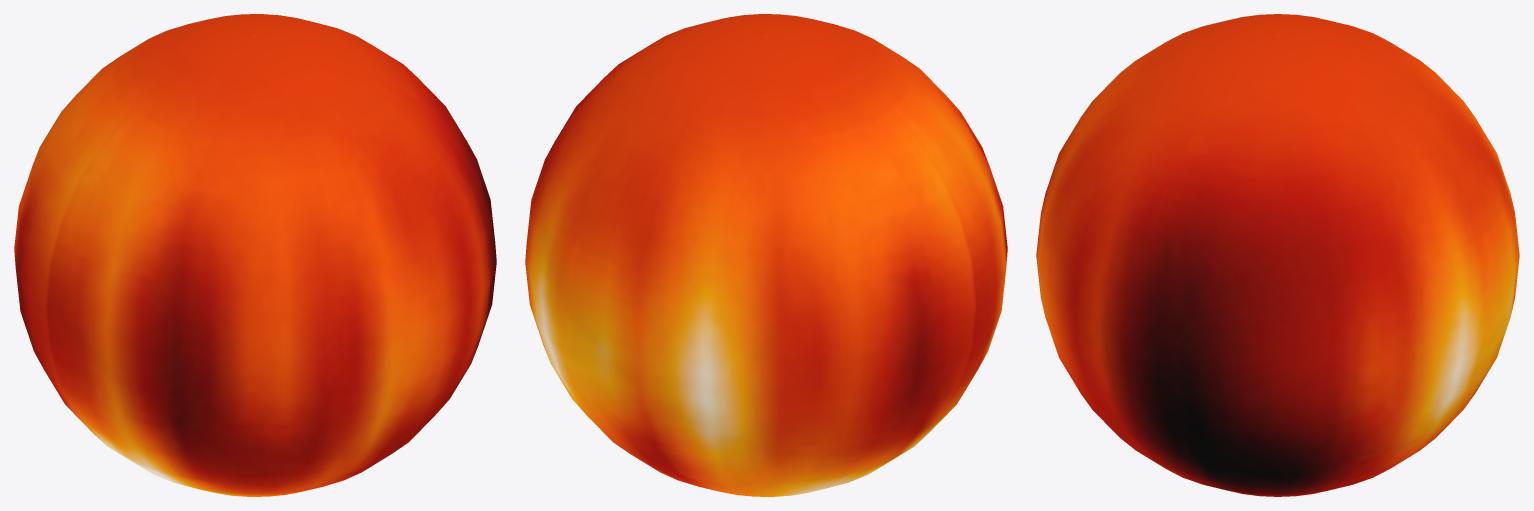
Rendered from type_l_brown_dwarf__substellar_object.glb.
3 views of the same model, side by side, from view 1: azimuth 30°, elevation 25°; view 2: azimuth 150°, elevation 25°; view 3: azimuth 270°, elevation 25° (orthographic).
Parts seen in each view (by area): view 1: Object_3; view 2: Object_3; view 3: Object_3.
Boxes of the visible parts, box(x1,y1,x2,y2) form: Object_3: box(14, 14, 496, 496); Object_3: box(525, 14, 1007, 496); Object_3: box(1036, 14, 1519, 496).
Bounding box in the file's own units: 1155 × 1155 × 1155.
2 materials, 1 textured.
